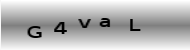4: (52, 21, 68, 35)
G: (26, 25, 42, 39)
L: (127, 18, 141, 32)
a: (99, 17, 110, 28)
v: (77, 18, 91, 29)
